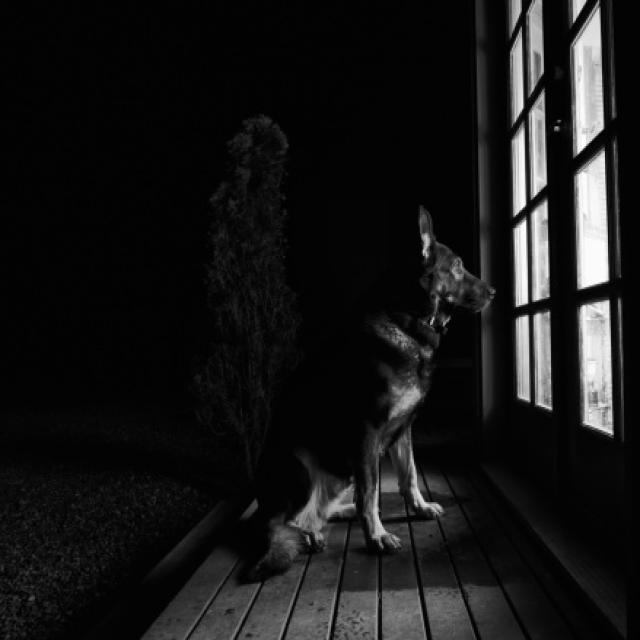Dog: (233, 205, 495, 584)
